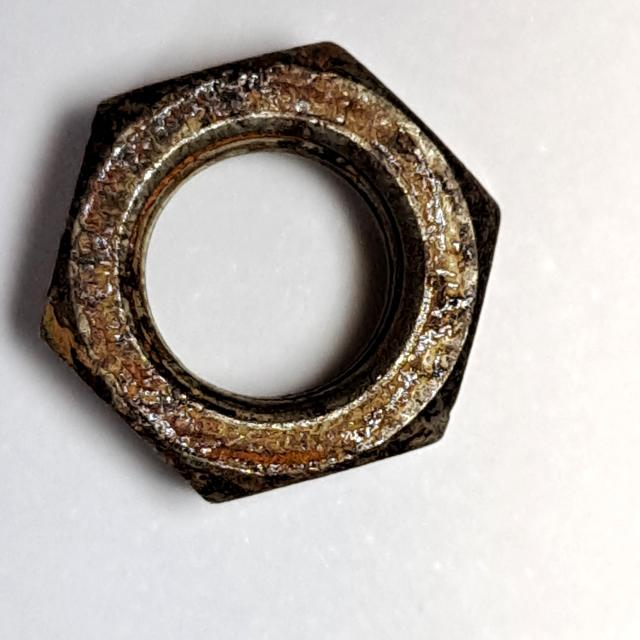Rust: (19, 27, 517, 514)
